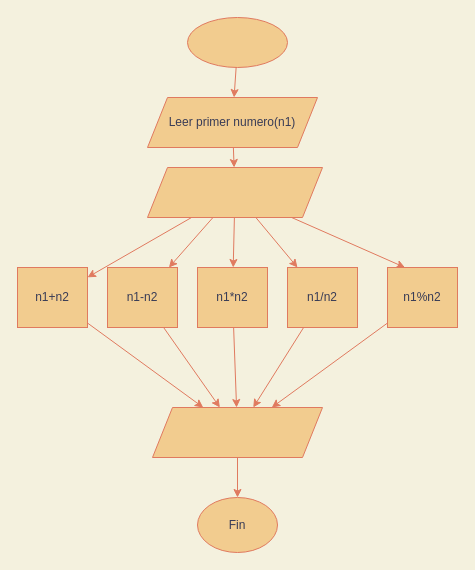
The diagram is 475 pixels wide and 570 high, and some of its shapes have lost their labels. The shapes that lost their labels are listed below. From the top down, each one's centre as x and y in pixels, then its label:
the point at 237,42: Inicio
the point at 234,192: Leer segundo numero(n2)
the point at 237,432: Mostrar resultados
